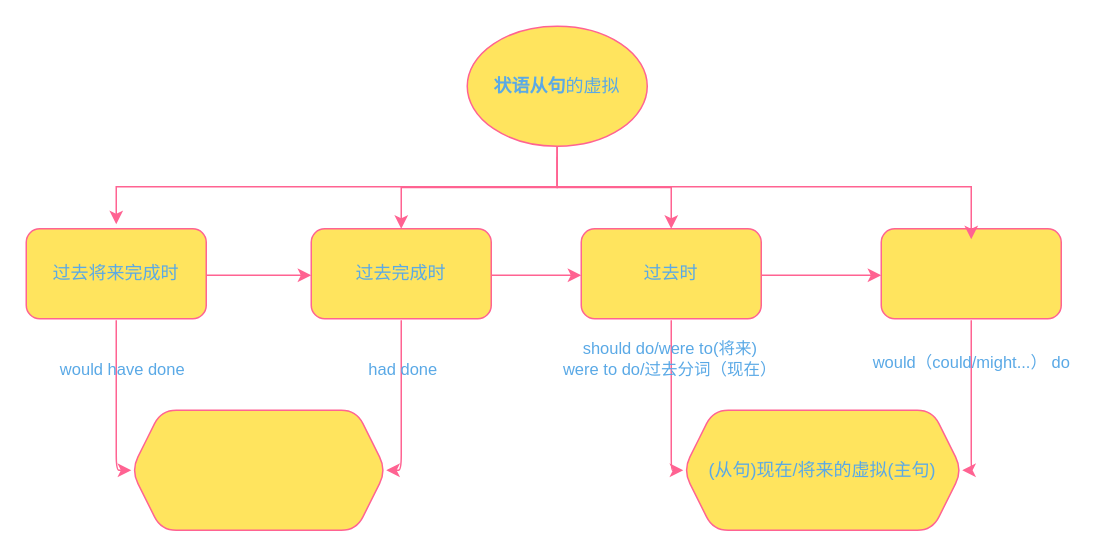
Image size: 1095x557. Some labels were removed from this diagram. The shapes that lost their labels are listed below. From the top down, each one's centre as x and y in pixels, then its label:
At [970,273]: "过去将来时".
At [258,469]: "（主句）过去的虚拟（从句）".
